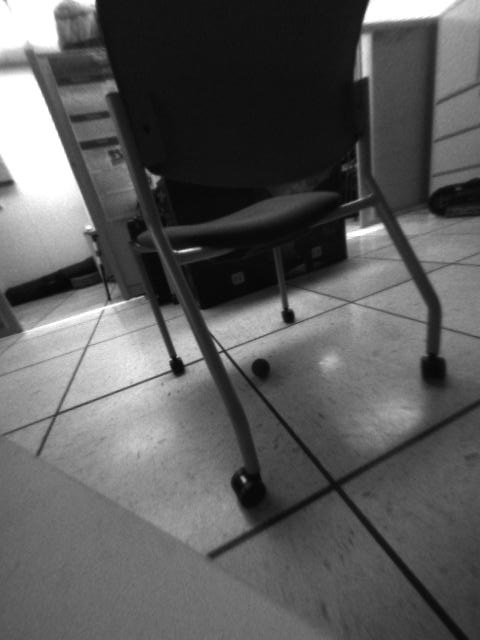dogtoy: (246, 351, 277, 385)
